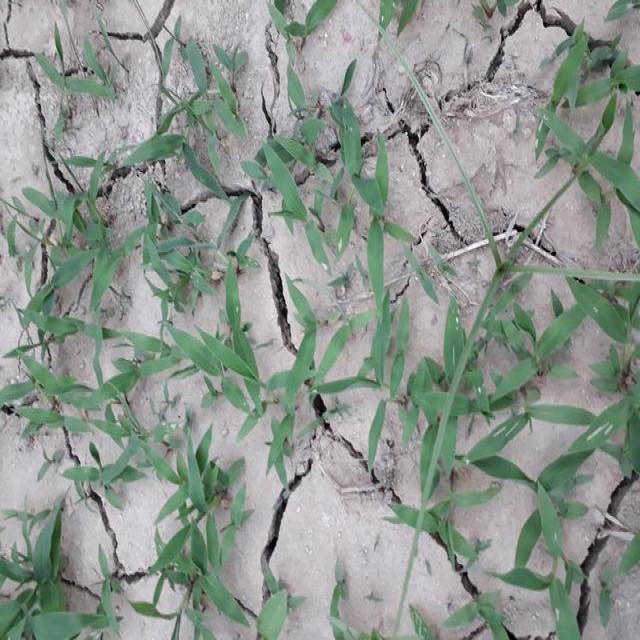weed: (9, 150, 242, 610), (430, 264, 640, 588), (260, 77, 414, 424)
